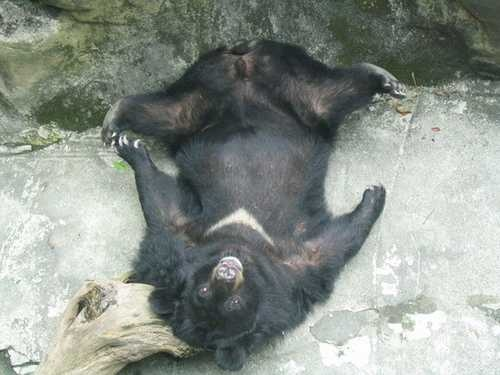bear: (143, 247, 271, 375), (91, 128, 219, 256), (288, 156, 416, 284), (87, 40, 215, 168), (305, 33, 415, 143)
